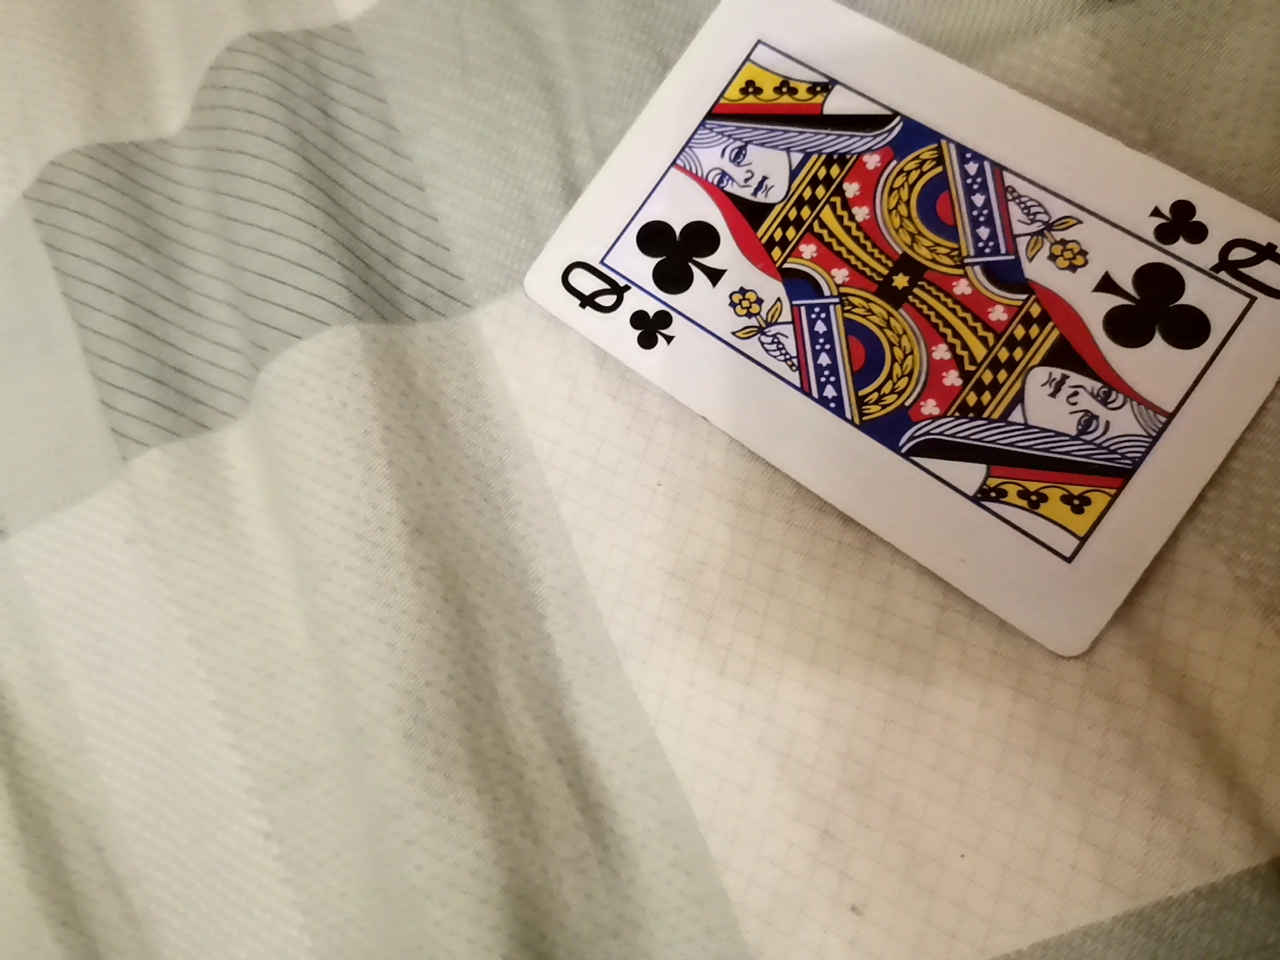mh q: (519, 2, 1270, 688)
